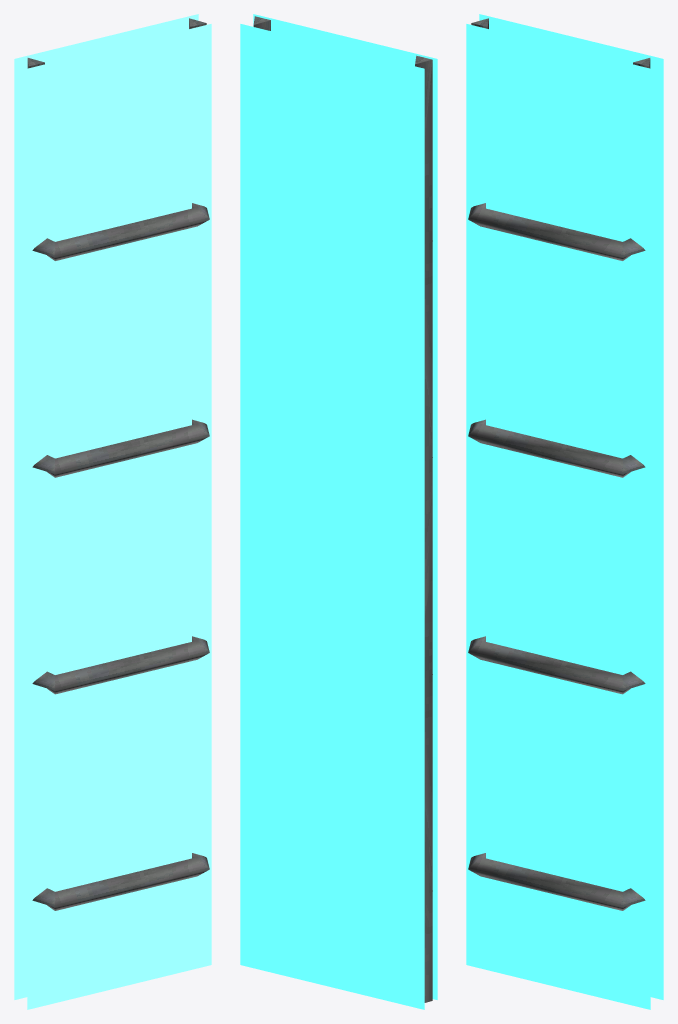
The model's file is vt49_ladder_l2.fbx.
The picture shows the model from 3 angles, left to right: view 1: azimuth 30°, elevation 25°; view 2: azimuth 150°, elevation 25°; view 3: azimuth 330°, elevation 25°; orthographic projection.
Visible parts, largest first — view 1: mesh_node; view 2: mesh_node; view 3: mesh_node.
Boxes of the visible parts, x1=… form: mesh_node: x1=14, y1=14, x2=211, y2=1009; mesh_node: x1=240, y1=14, x2=437, y2=1009; mesh_node: x1=466, y1=14, x2=663, y2=1009.
Bounding box in the file's own units: 0.5345 × 2.61 × 0.1297.
2 materials, 1 textured.
